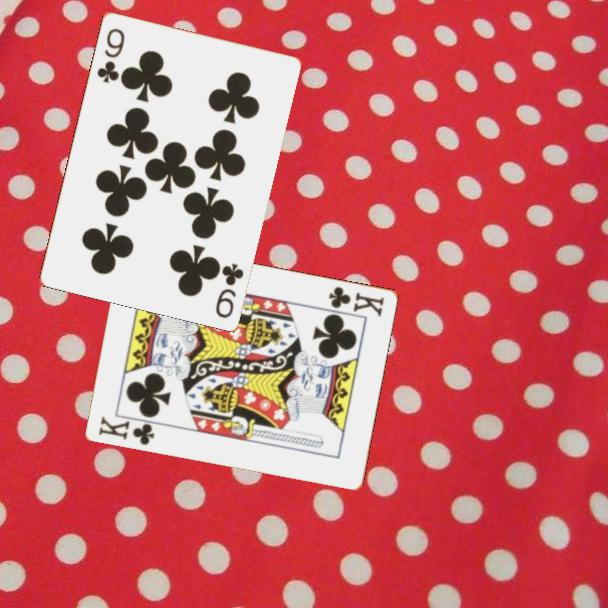c09: (212, 259, 246, 321), (93, 24, 127, 85)
c13: (325, 282, 387, 319), (95, 412, 158, 448)
